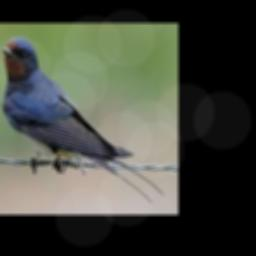Swallow: (2, 37, 165, 204)
